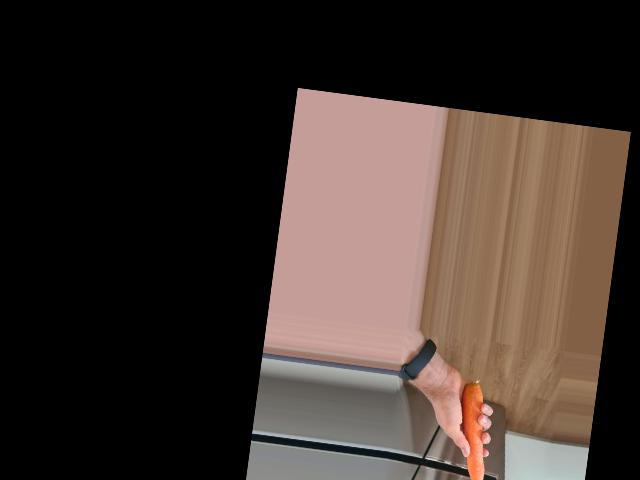carrot: (449, 379, 498, 480)
